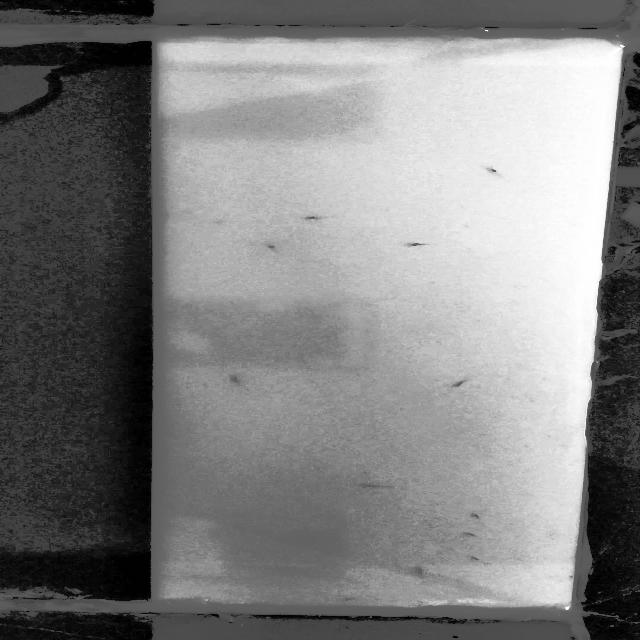shrimp: (479, 160, 512, 178), (357, 481, 398, 492), (449, 378, 480, 390), (466, 554, 497, 566), (400, 237, 429, 249), (260, 241, 288, 253), (465, 509, 487, 521), (462, 528, 480, 540), (226, 374, 247, 384), (303, 212, 323, 221), (340, 593, 357, 603), (411, 568, 429, 576)
